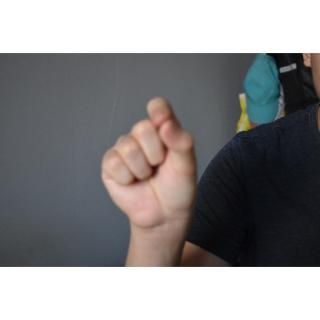FAA: (96, 94, 209, 237)
